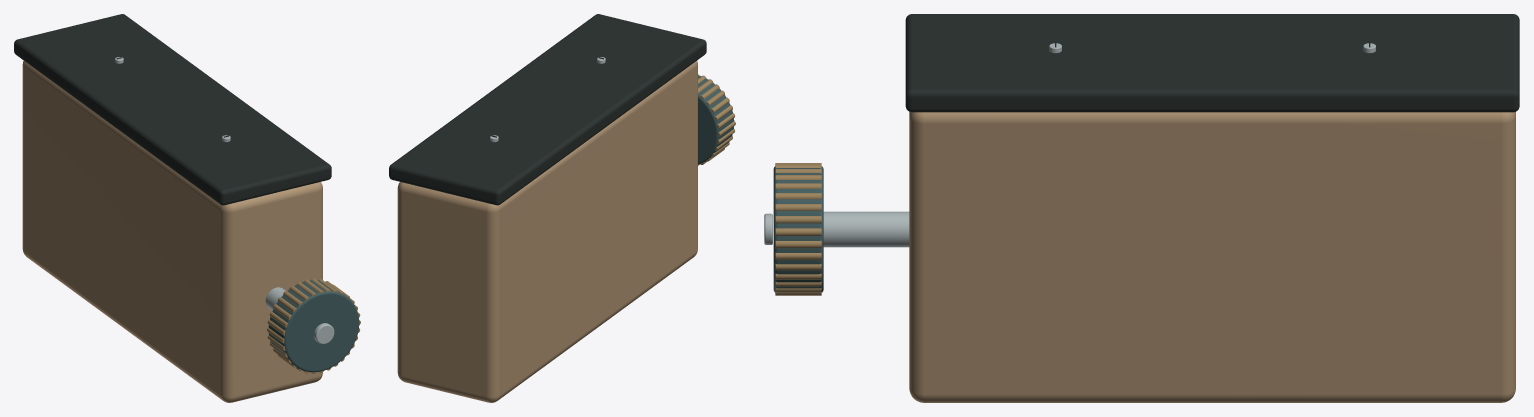
The model's file is bridge_support.glb.
The picture shows the model from 3 angles, left to right: view 1: azimuth 30°, elevation 25°; view 2: azimuth 150°, elevation 25°; view 3: azimuth 270°, elevation 25°; orthographic projection. The views are drawn at different scales.
Parts seen in each view (by area): view 1: Laminated ash support, Replaceable rubber saddle, Knurled adjustment wheel, Wheel fastener; view 2: Laminated ash support, Replaceable rubber saddle, Knurled adjustment wheel; view 3: Laminated ash support, Replaceable rubber saddle, Knurled adjustment wheel, Lead screw shaft.
Boxes of the visible parts, box(x1,y1,x2,y2) form: Laminated ash support: box(22, 61, 322, 402); Replaceable rubber saddle: box(14, 14, 331, 205); Knurled adjustment wheel: box(268, 280, 359, 372); Wheel fastener: box(314, 323, 334, 344); Laminated ash support: box(397, 61, 697, 402); Replaceable rubber saddle: box(389, 14, 706, 205); Knurled adjustment wheel: box(698, 75, 734, 164); Laminated ash support: box(909, 112, 1515, 402); Replaceable rubber saddle: box(905, 14, 1519, 112); Knurled adjustment wheel: box(773, 166, 823, 292); Lead screw shaft: box(823, 211, 909, 247).
Bounding box in the file's own units: 0.265 × 0.506 × 1.06.
